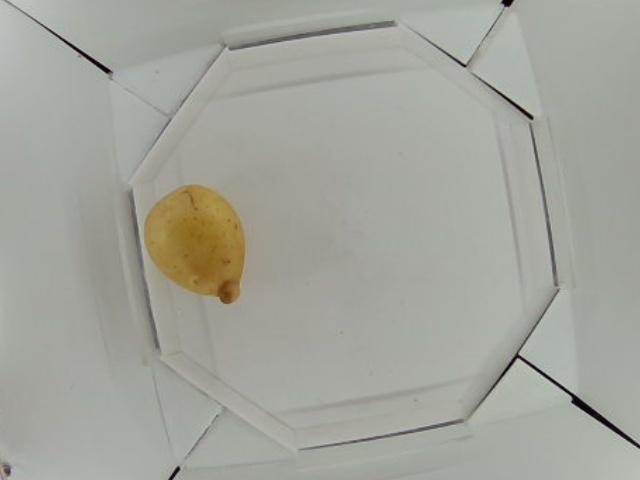Potato: (145, 184, 247, 305)
